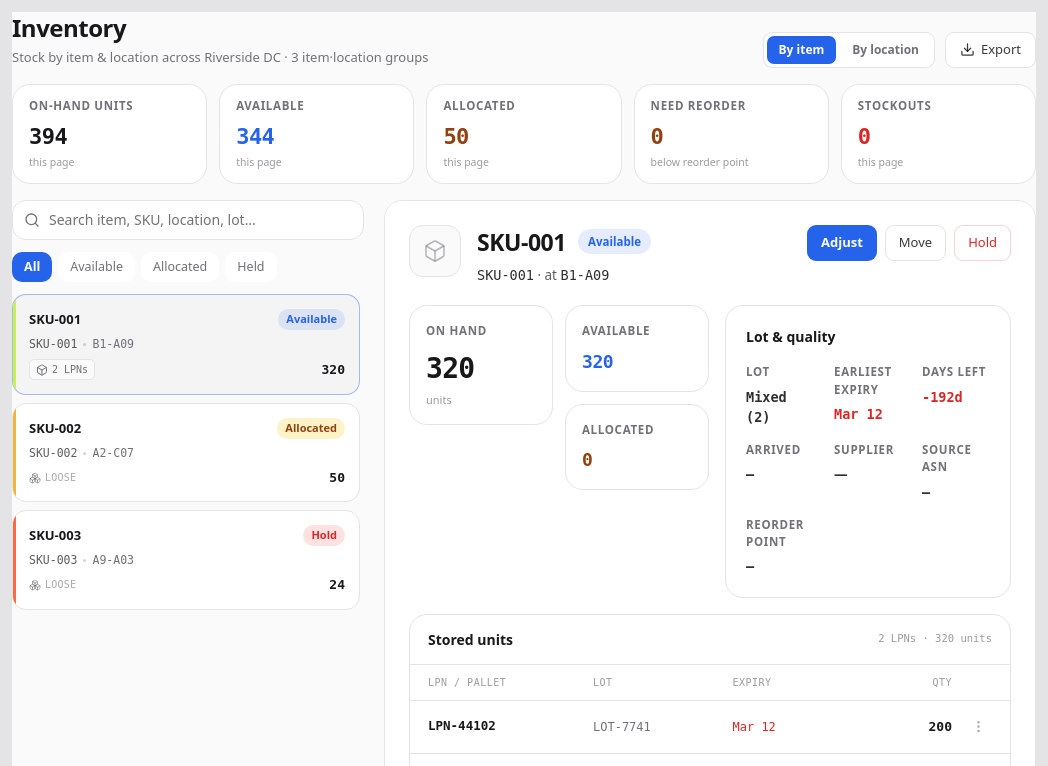
Scenario: InventoryPage › shows the no-unit-load-breakdown note for a loose group
Click the button with test id "inv-row-SKU-002".
click(55, 428)  # box [12,403,360,502]
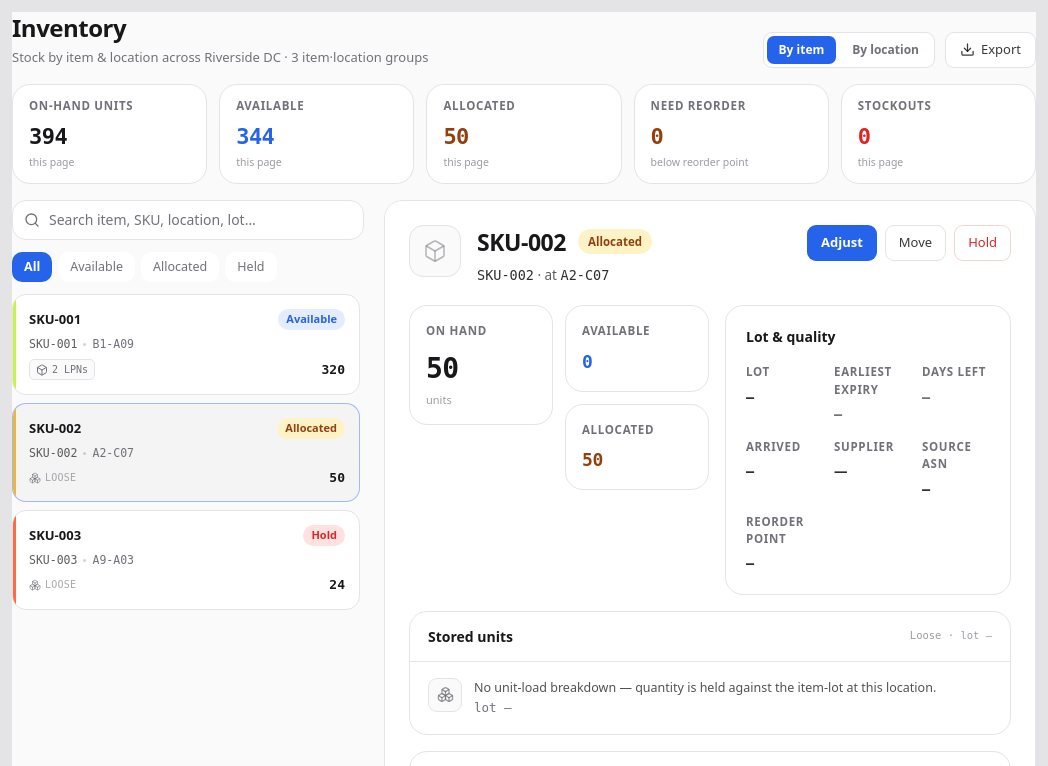
Expected: the text "No unit-load breakdown" is shown, [474,678,936,696]
